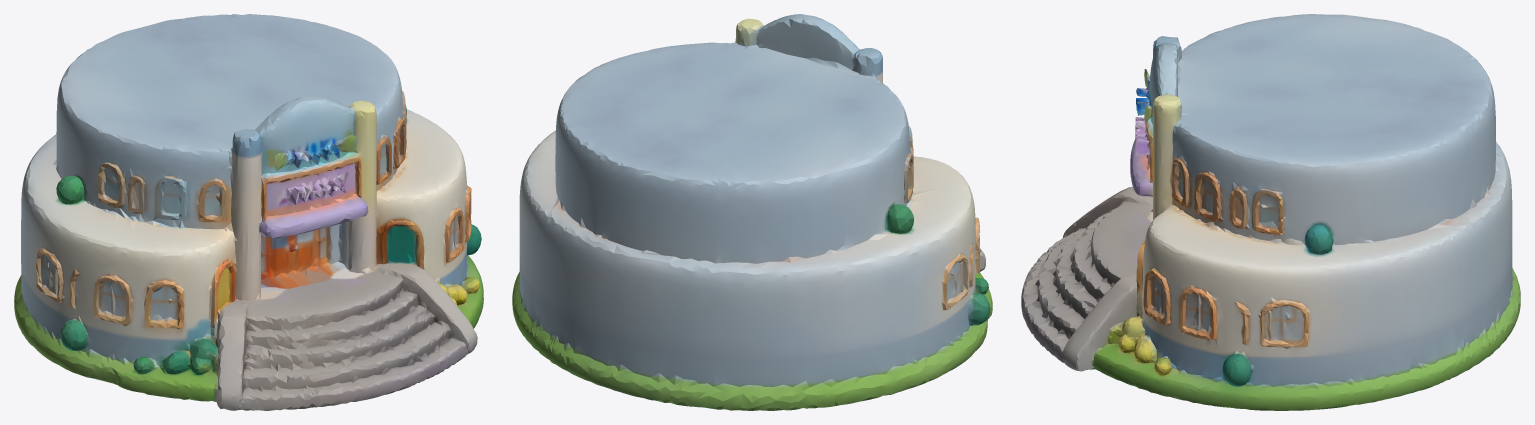
Rendered from hub_theatre_hyper3d.glb.
3 renders of one model, left to right at view 1: azimuth 30°, elevation 25°; view 2: azimuth 150°, elevation 25°; view 3: azimuth 270°, elevation 25°, orthographic. The views are drawn at different scales.
Visible parts, largest first — view 1: hub_theatre_hyper3d; view 2: hub_theatre_hyper3d; view 3: hub_theatre_hyper3d.
Boxes of the visible parts, bbox=[...] form: hub_theatre_hyper3d: bbox=[14, 14, 483, 410]; hub_theatre_hyper3d: bbox=[512, 14, 992, 410]; hub_theatre_hyper3d: bbox=[1021, 14, 1520, 410].
Size of the model in its own units: 1.9 by 1.08 by 1.89.
1 material, 1 textured.
